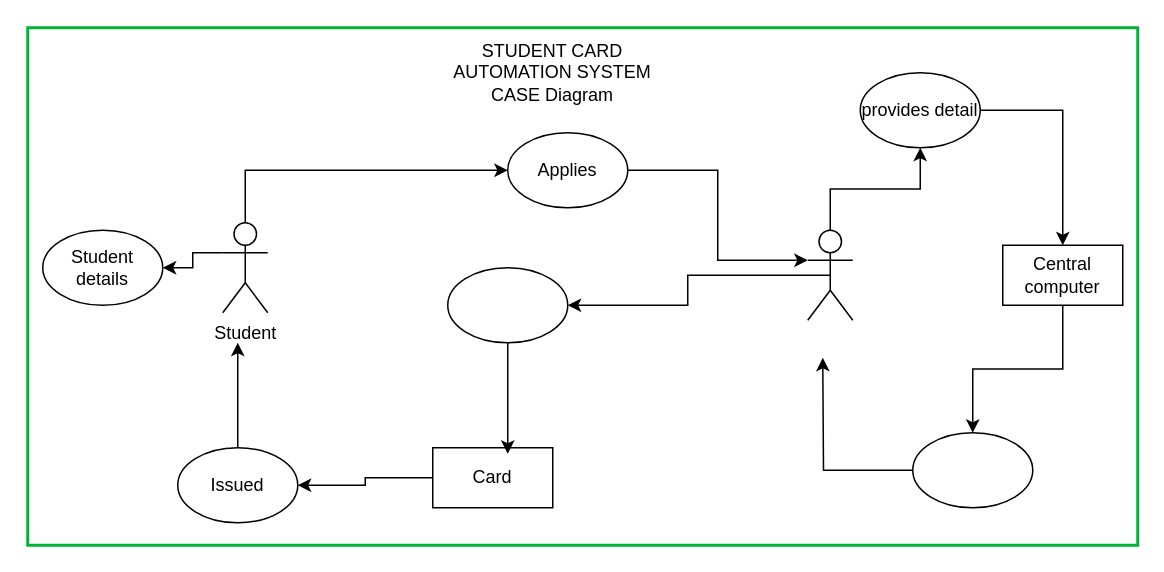
Image size: 1164x572. Some labels were removed from this diagram. The shapes that lost their labels are listed below. From the top down, each one's box as (x1, y1, x2, y2) in pixels, then its label:
(806, 229, 853, 320): Librarian
(446, 266, 568, 343): Approves
(911, 431, 1033, 508): provides verification
